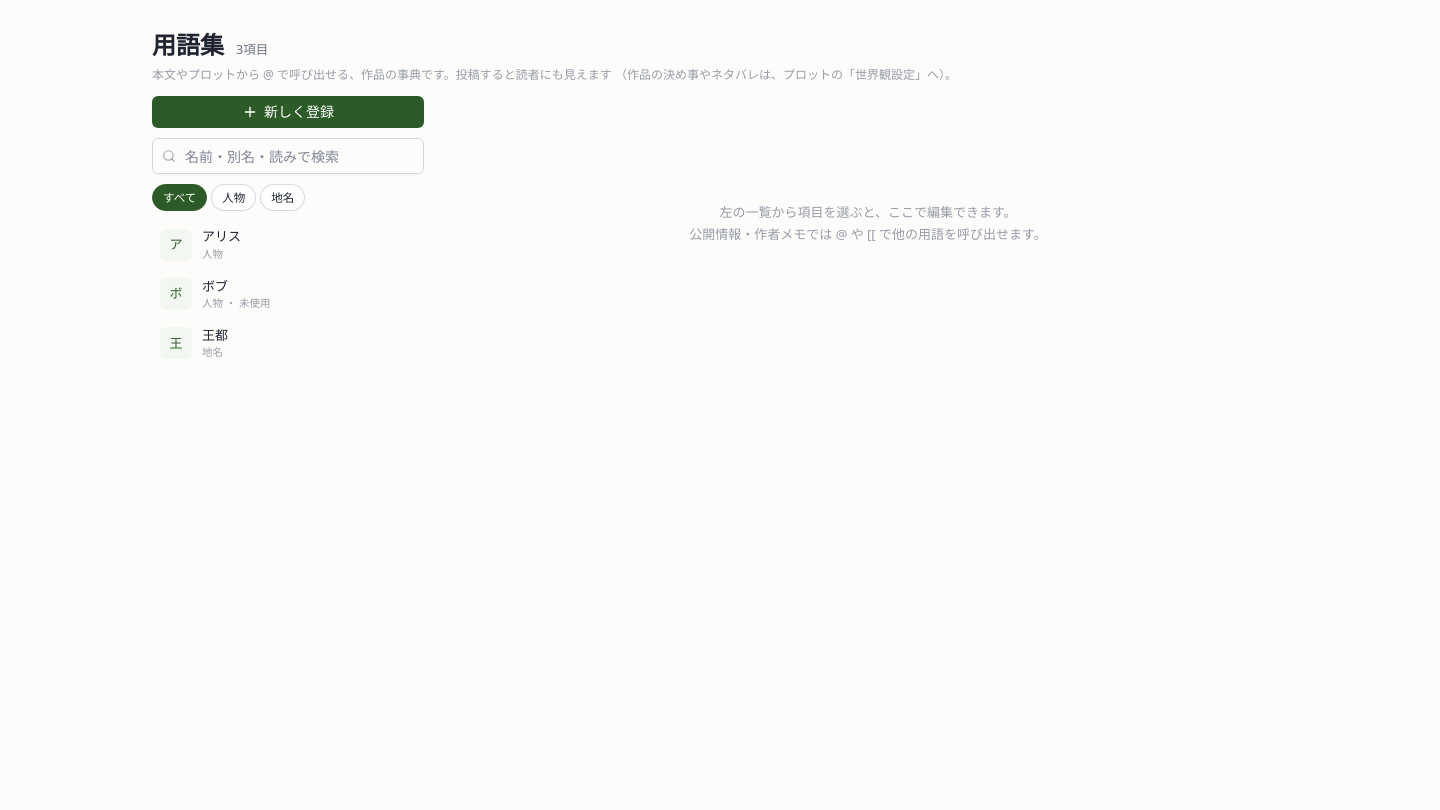
Scenario: GlossaryView（左右2カラム：一覧・検索・その場編集） › 「新しく登録」は対話で開き、フォームで名前を入れた時点で登録されて、その項目が開く
Click the button "新しく登録" at (288, 112), box [152,96,424,128]
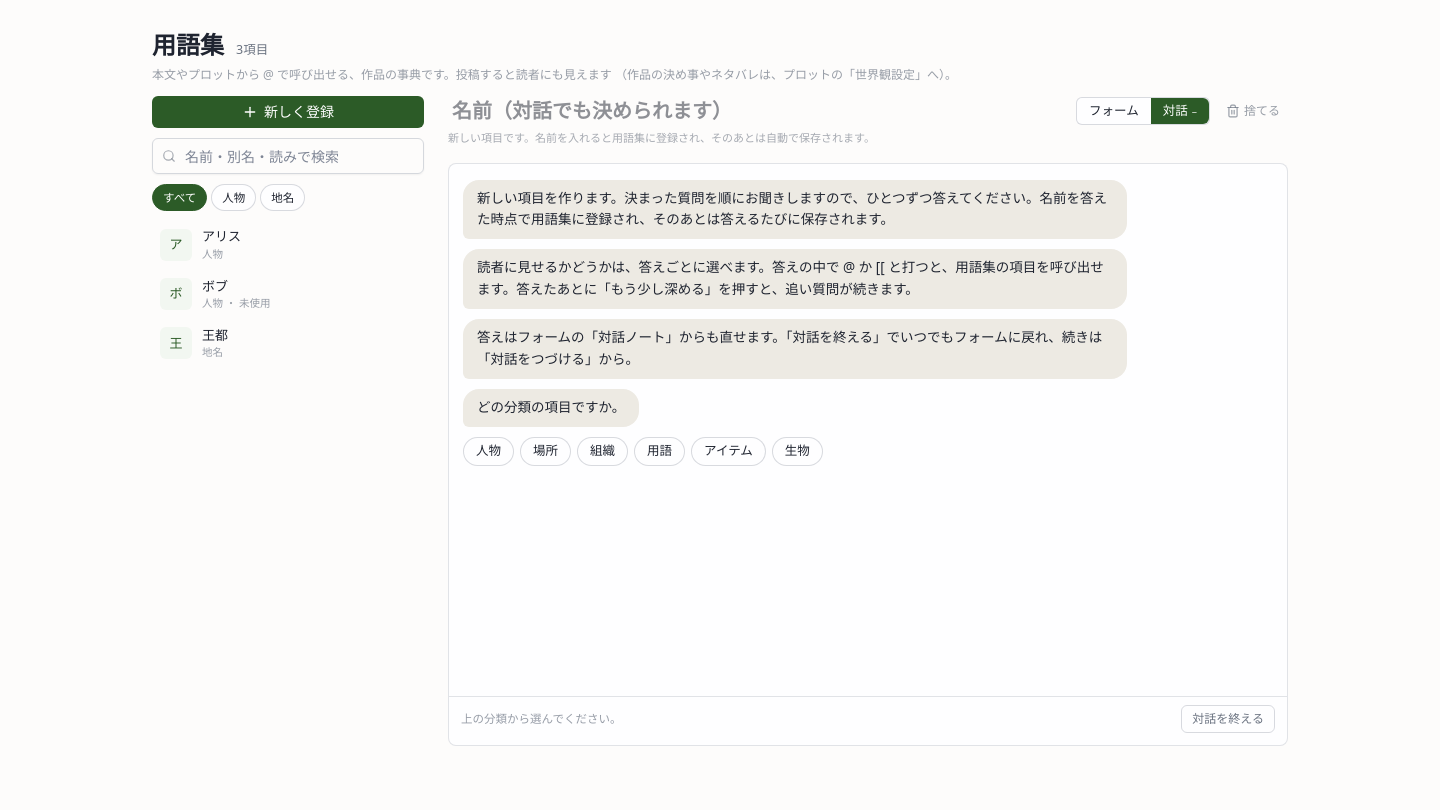
Result: the button "人物" below "どの分類の項目ですか。" is shown at [463,437,514,466]
フォームに切り替えて名前を入れる＝欄を離れた時点で登録（登録ボタンは無い）
Click the button "フォーム" at (1114, 111), box [1077,98,1151,124]
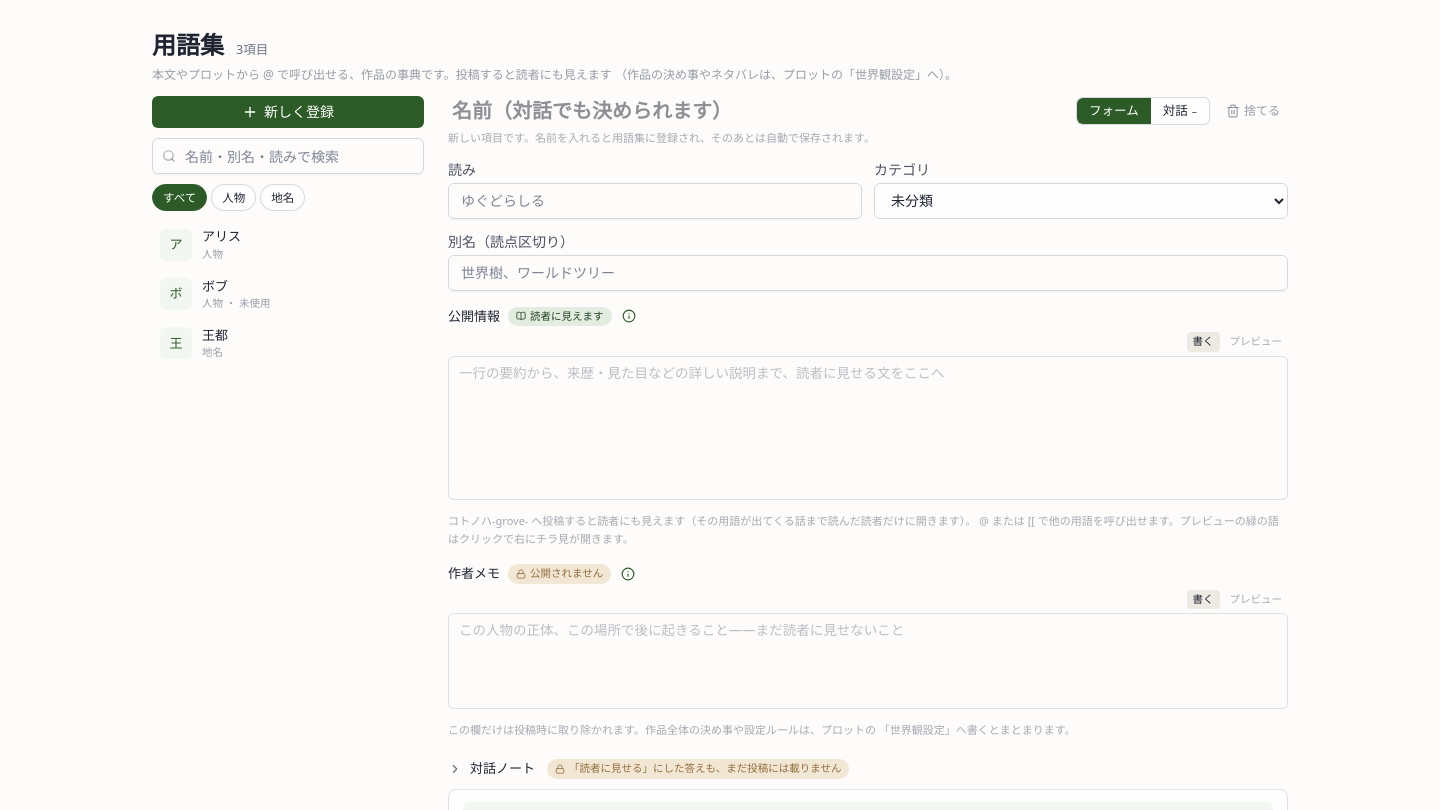
Type "キャロル" into the field labelled "名前" at (756, 111), box [448,96,1064,126]
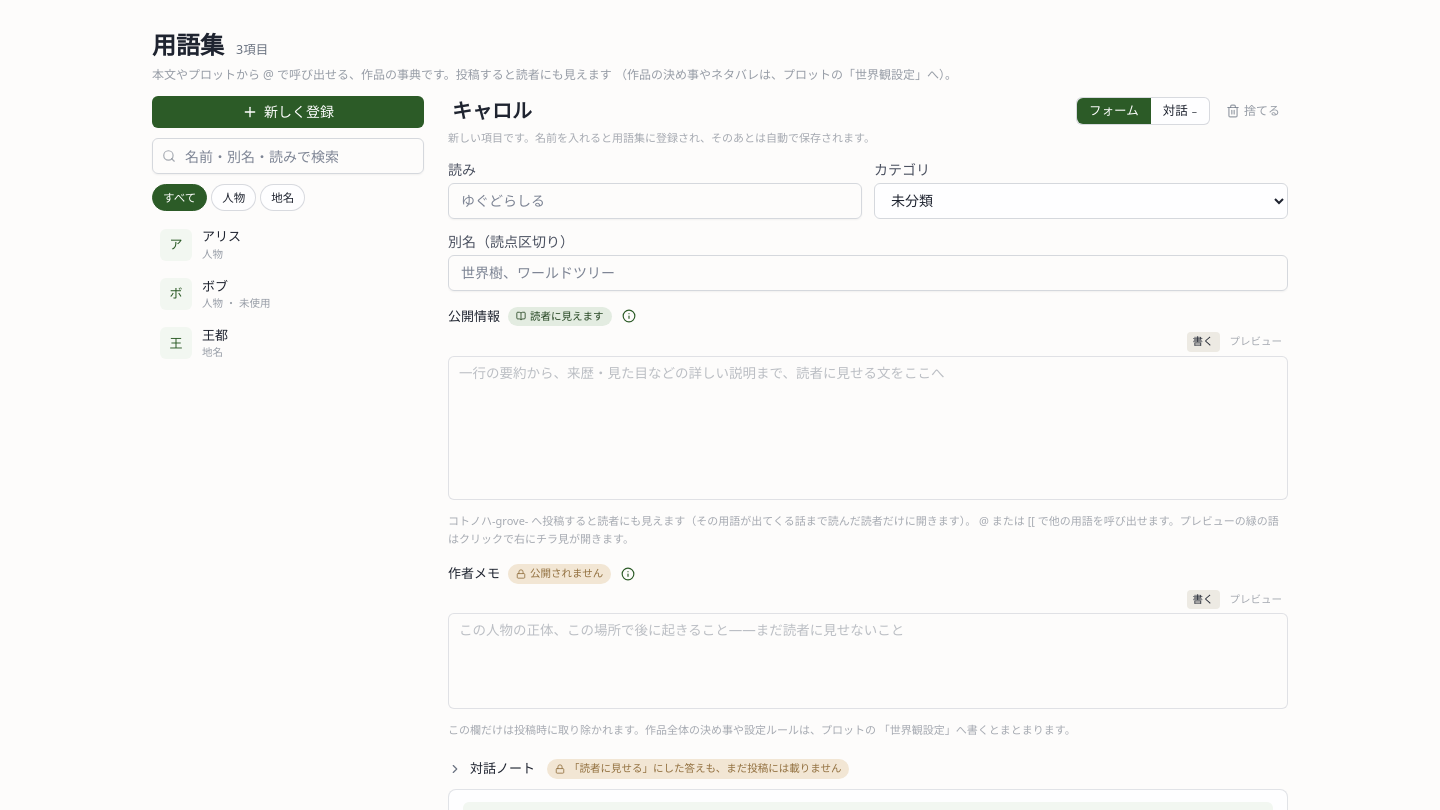
Leave the field named "名前", box [448,96,1064,126]
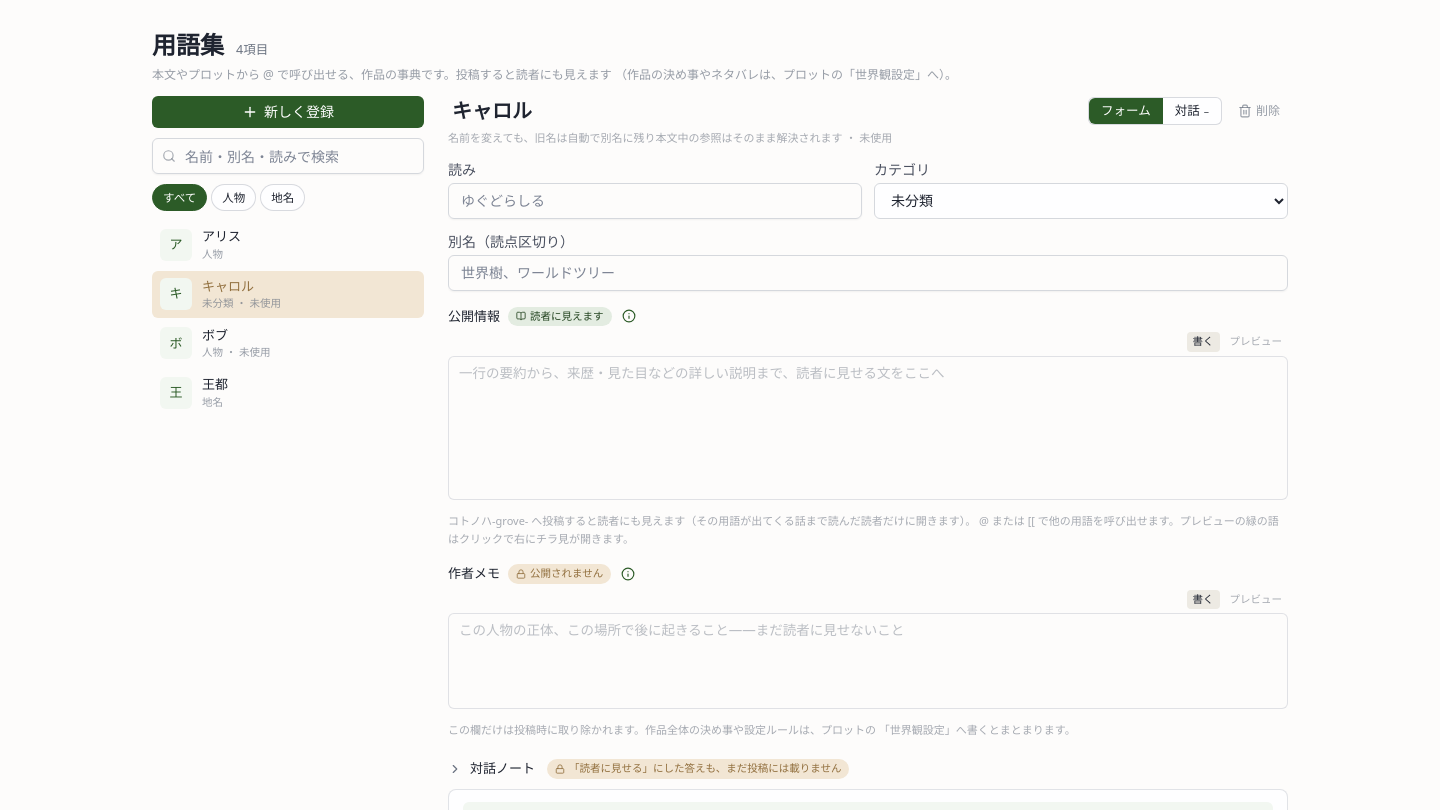
Result: the field named "名前" holds "キャロル" at [448,96,1076,126]
Result: the button with aria-label "「キャロル」を編集" is shown at [152,270,424,318]
